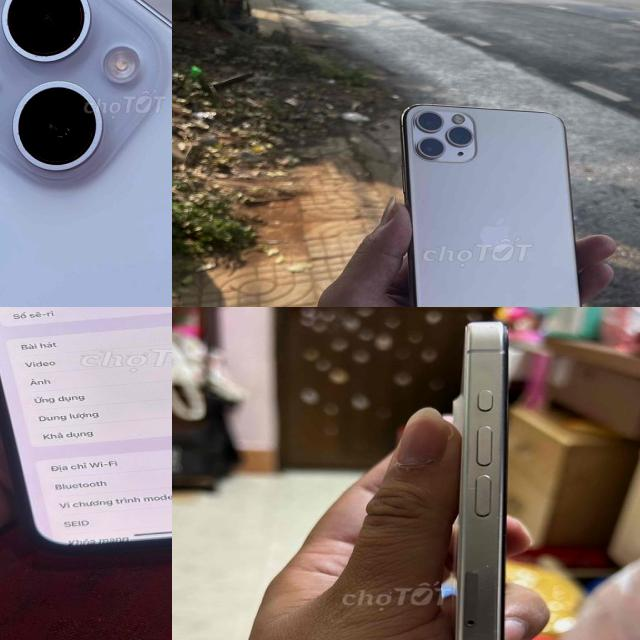gen_11: (391, 95, 593, 307)
gen_14: (0, 307, 172, 562)
gen_15: (0, 0, 172, 307), (413, 307, 563, 640)
scratch: (468, 560, 498, 640), (462, 320, 510, 334), (464, 481, 478, 491), (494, 512, 504, 520)
